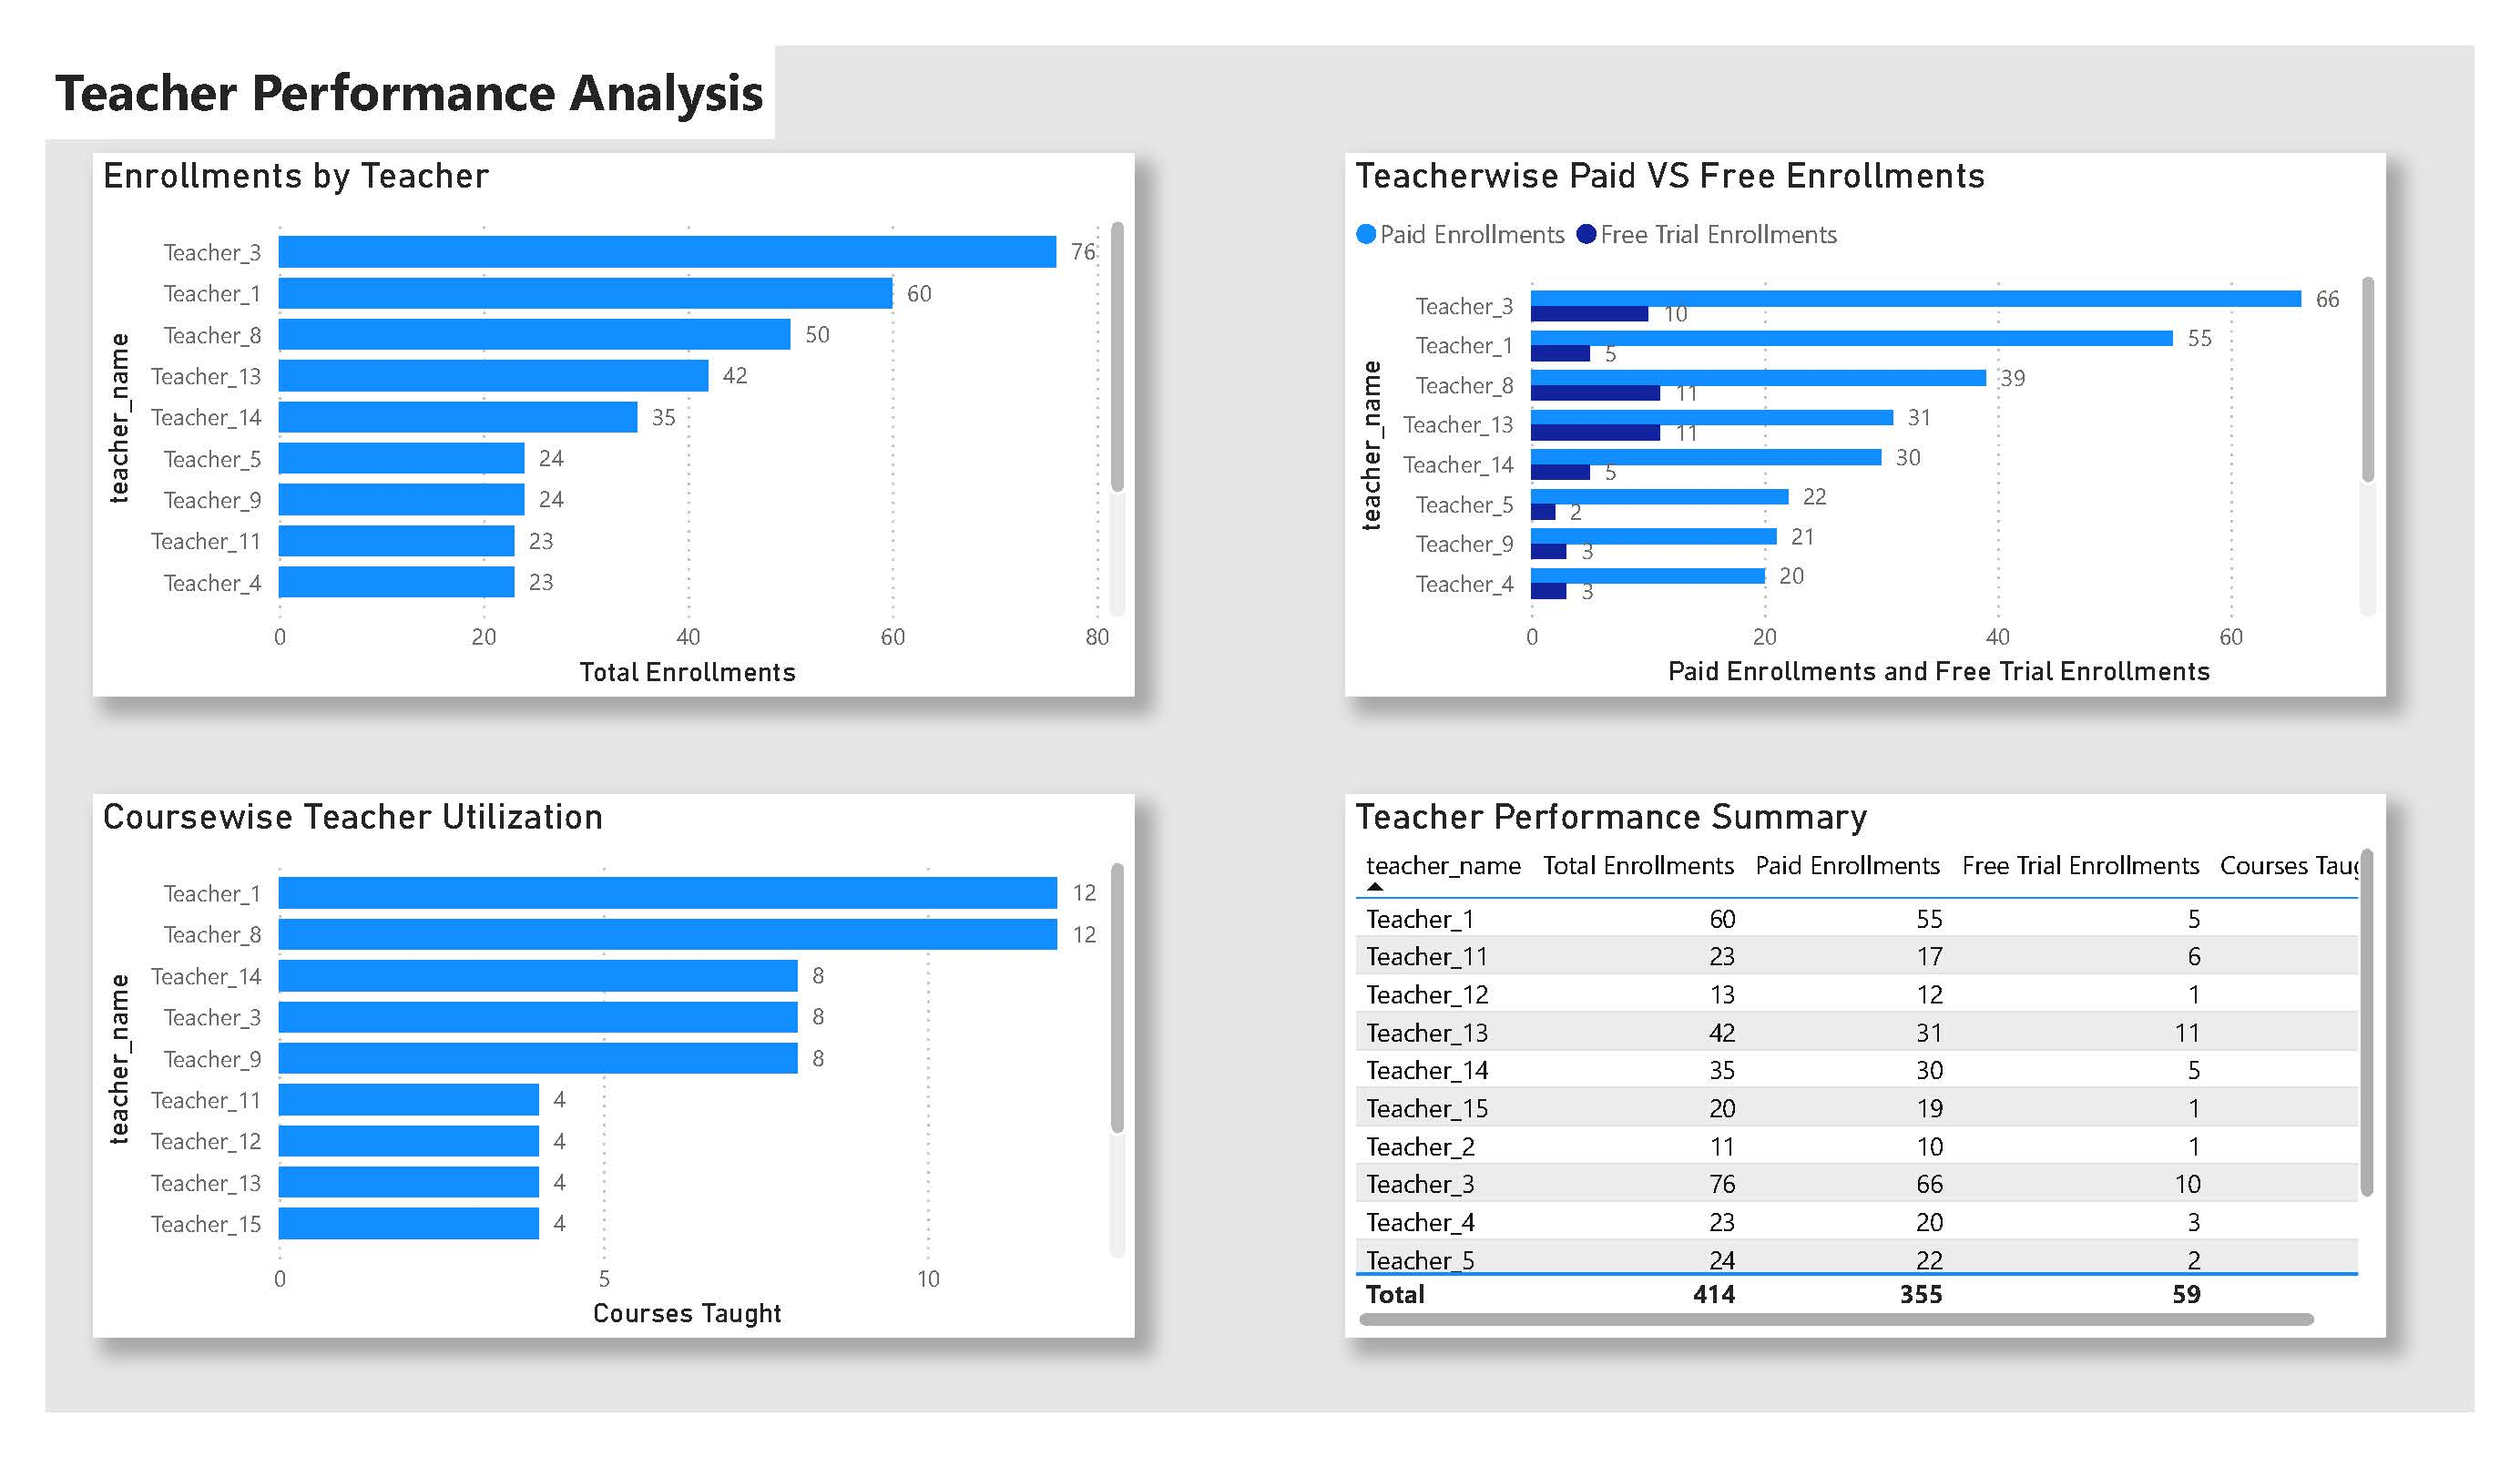

The dashboard page shown, as its layout file describes it:
{"tool":"powerbi","page":{"name":"Teacher Performance","canvas":[1280,720],"ordinal":4},"visuals":[{"type":"clusteredBarChart","title":"Enrollments by Teacher","fields":{"Category":["edtech teachers.teacher_name"],"Y":["edtech enrollments.Total Enrollments"]},"box":[25.3,57.4,548.6,286],"z":0},{"type":"clusteredBarChart","title":"Teacherwise Paid VS Free Enrollments","fields":{"Category":["edtech teachers.teacher_name"],"Y":["edtech enrollments.Paid Enrollments","edtech enrollments.Free Trial Enrollments"]},"box":[684.7,57.4,548.6,286],"z":1000},{"type":"clusteredBarChart","title":"Coursewise Teacher Utilization","fields":{"Category":["edtech teachers.teacher_name"],"Y":["edtech courses.Courses Taught"]},"box":[25.3,394.9,548.6,286],"z":2000},{"type":"tableEx","title":"Teacher Performance Summary","fields":{"Values":["edtech teachers.teacher_name","edtech enrollments.Total Enrollments","edtech enrollments.Paid Enrollments","edtech enrollments.Free Trial Enrollments","edtech courses.Courses Taught"]},"box":[684.7,394.9,548.6,286],"z":3000},{"type":"textbox","box":[0,0,384.2,48.6],"z":4000}]}

Visuals, with their boxes on the page's 1280x720 design canvas (x1, y1, x2, y2). These are canvas units, not pixel positions in the 2520x1457 screenshot, which may show the page scaled, cropped or inside an application window:
"Enrollments by Teacher" clusteredBarChart: [25, 57, 574, 343]
"Teacherwise Paid VS Free Enrollments" clusteredBarChart: [685, 57, 1233, 343]
"Coursewise Teacher Utilization" clusteredBarChart: [25, 395, 574, 681]
"Teacher Performance Summary" tableEx: [685, 395, 1233, 681]
textbox: [0, 0, 384, 49]
